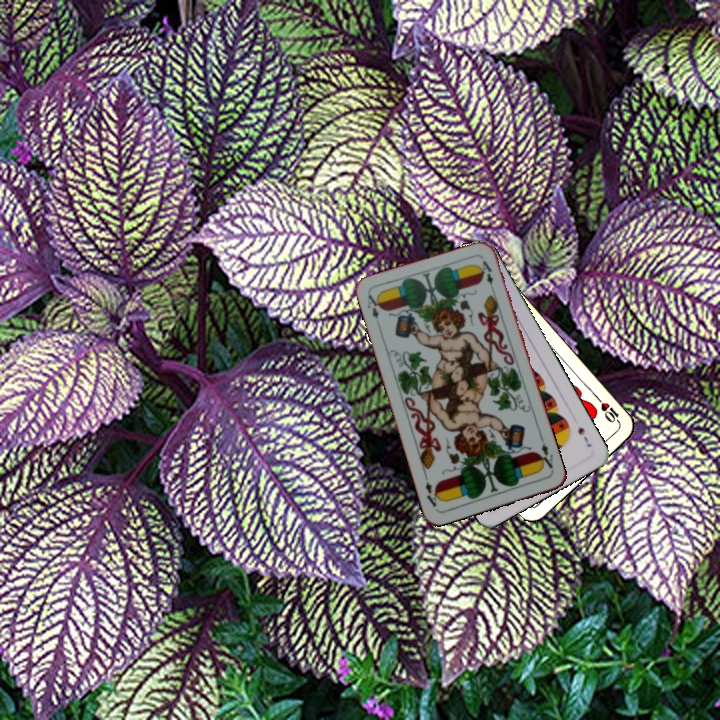EA: (534, 439, 556, 474), (363, 290, 385, 321)
H10: (597, 398, 623, 428)
S7: (574, 423, 594, 450)
